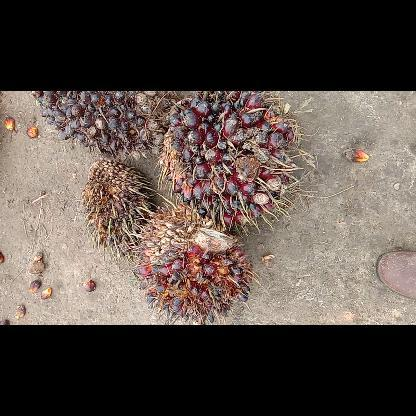Kurang masak: (165, 91, 299, 233), (33, 91, 161, 161)
TBS abnormal: (86, 160, 156, 258)
TBS masak: (134, 207, 252, 322)
